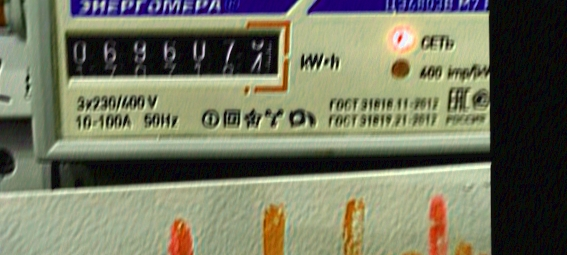0: (69, 40, 86, 64), (189, 37, 204, 62)
4: (246, 52, 262, 76)
6: (159, 38, 176, 63), (99, 40, 116, 64)
7: (219, 39, 234, 65)
9: (129, 40, 145, 64)
screen: (50, 16, 293, 93)
